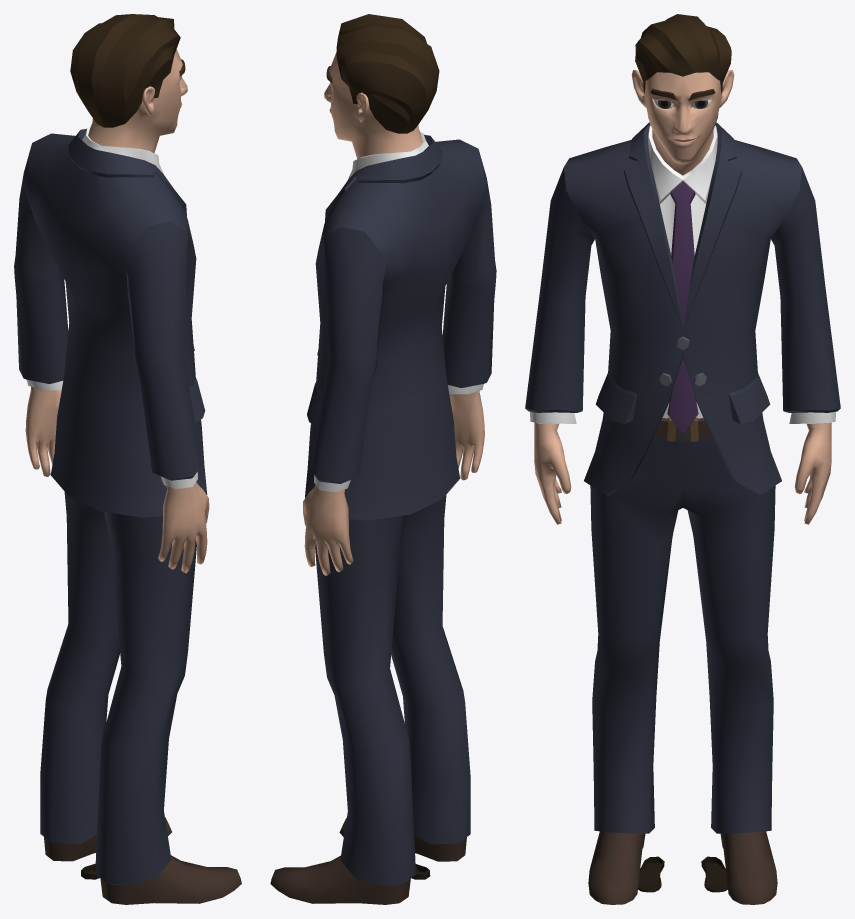
The model's file is teacher_2.glb.
3 views of the same model, side by side, from view 1: azimuth 30°, elevation 25°; view 2: azimuth 150°, elevation 25°; view 3: azimuth 270°, elevation 25° (orthographic).
Parts seen in each view (by area): view 1: man_in_suit_suit_0, man_in_suit_skin_0, man_in_suit_hair_0, man_in_suit_leather_0, man_in_suit_shirt_0; view 2: man_in_suit_suit_0, man_in_suit_skin_0, man_in_suit_hair_0, man_in_suit_leather_0, man_in_suit_shirt_0; view 3: man_in_suit_suit_0, man_in_suit_skin_0, man_in_suit_leather_0, man_in_suit_hair_0, man_in_suit_shirt_0, man_in_suit_tie_0, man_in_suit_sole_0.
Boxes of the visible parts, bbox=[...] form: man_in_suit_suit_0: bbox=[14, 128, 207, 885]; man_in_suit_skin_0: bbox=[25, 49, 209, 573]; man_in_suit_hair_0: bbox=[70, 14, 185, 127]; man_in_suit_leather_0: bbox=[44, 817, 241, 904]; man_in_suit_shirt_0: bbox=[26, 126, 197, 488]; man_in_suit_suit_0: bbox=[305, 134, 496, 885]; man_in_suit_skin_0: bbox=[303, 52, 484, 575]; man_in_suit_hair_0: bbox=[326, 14, 439, 133]; man_in_suit_leather_0: bbox=[270, 817, 466, 904]; man_in_suit_shirt_0: bbox=[314, 132, 483, 492]; man_in_suit_suit_0: bbox=[525, 122, 840, 833]; man_in_suit_skin_0: bbox=[534, 70, 831, 524]; man_in_suit_leather_0: bbox=[588, 418, 777, 904]; man_in_suit_hair_0: bbox=[635, 14, 731, 100]; man_in_suit_shirt_0: bbox=[530, 125, 835, 423]; man_in_suit_tie_0: bbox=[667, 181, 698, 433]; man_in_suit_sole_0: bbox=[638, 856, 727, 892].
Bounding box in the file's own units: 0.4057 × 2.39 × 0.7963.
